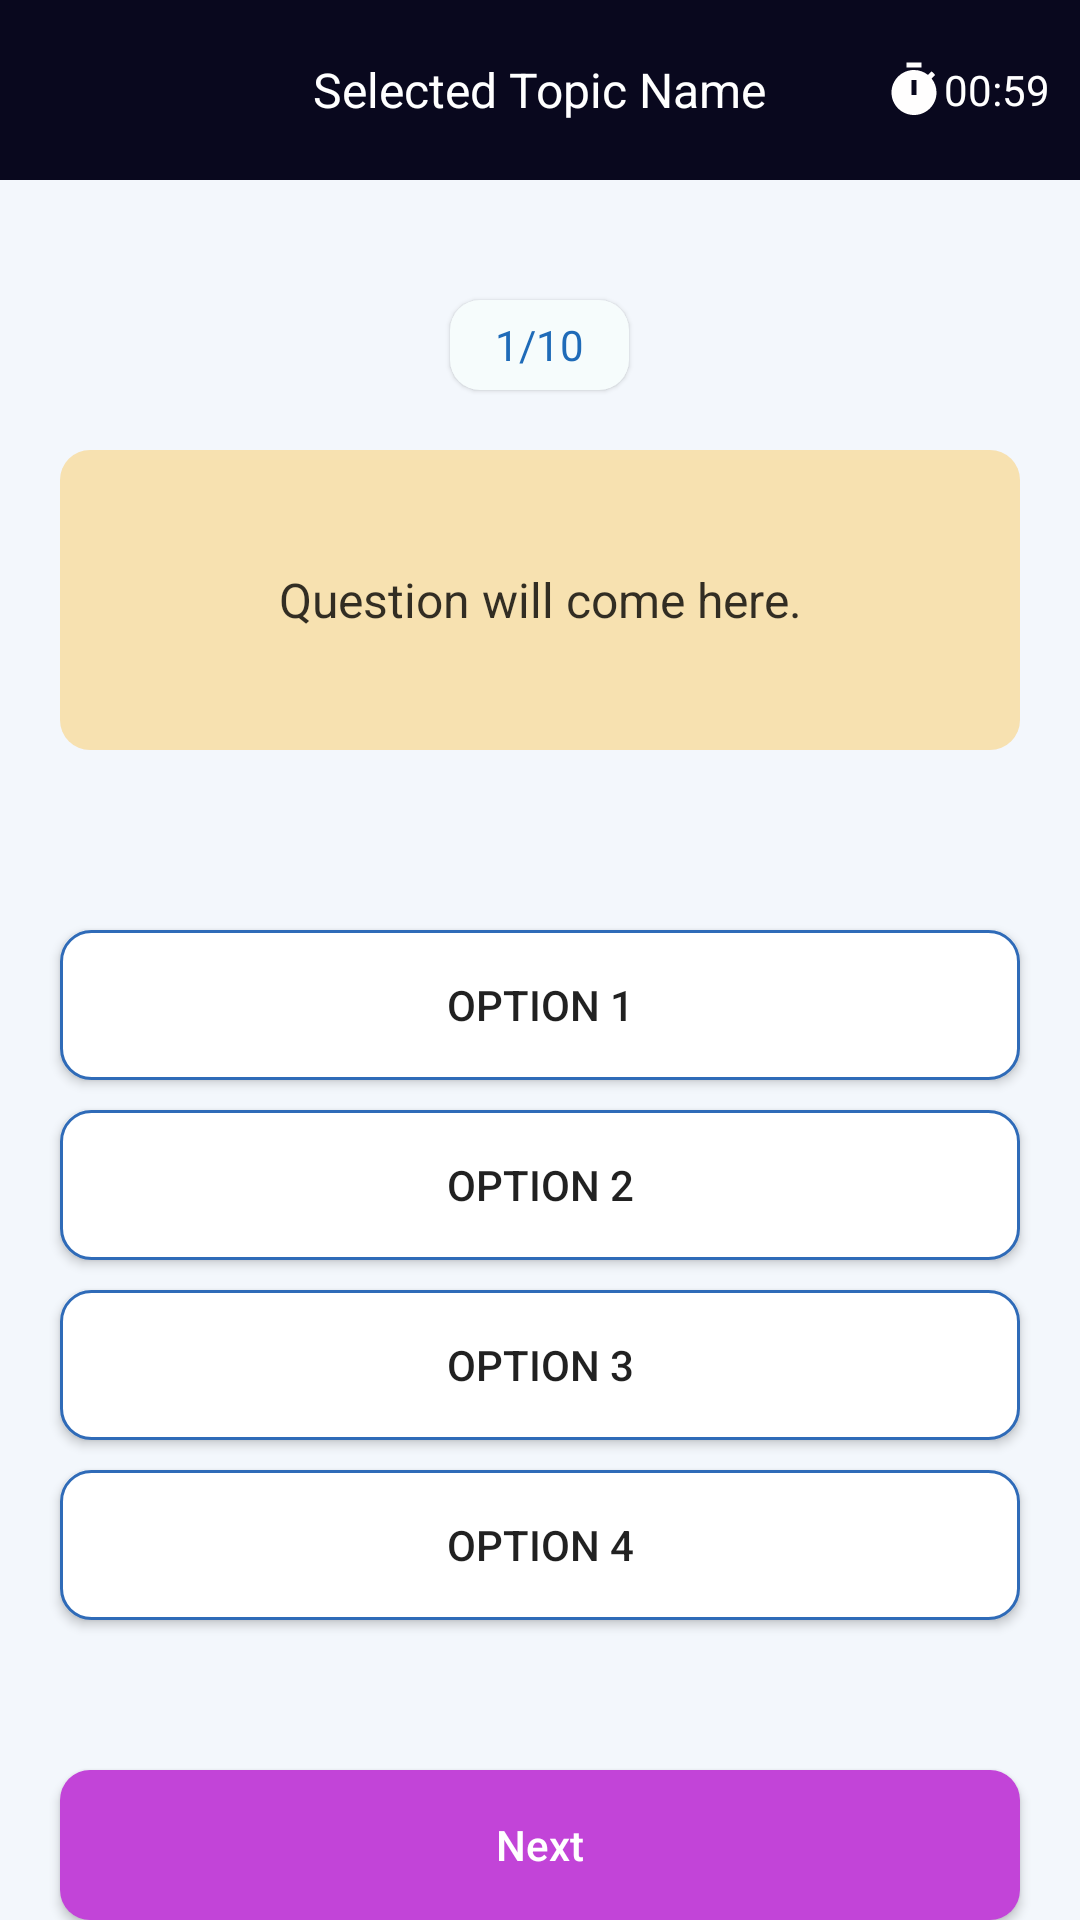

Screen size 1080 × 1920. Icon name, then its center in pixels as (x,y):
timer: (914,88)
